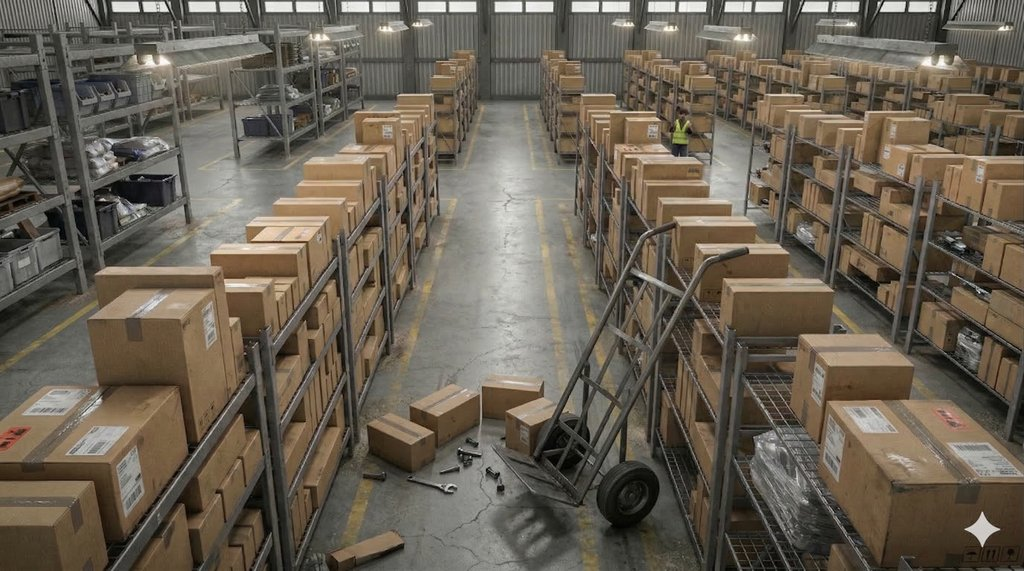obstacle: (287, 207, 800, 566)
person: (653, 104, 721, 164)
safety_vest: (669, 118, 695, 152)
